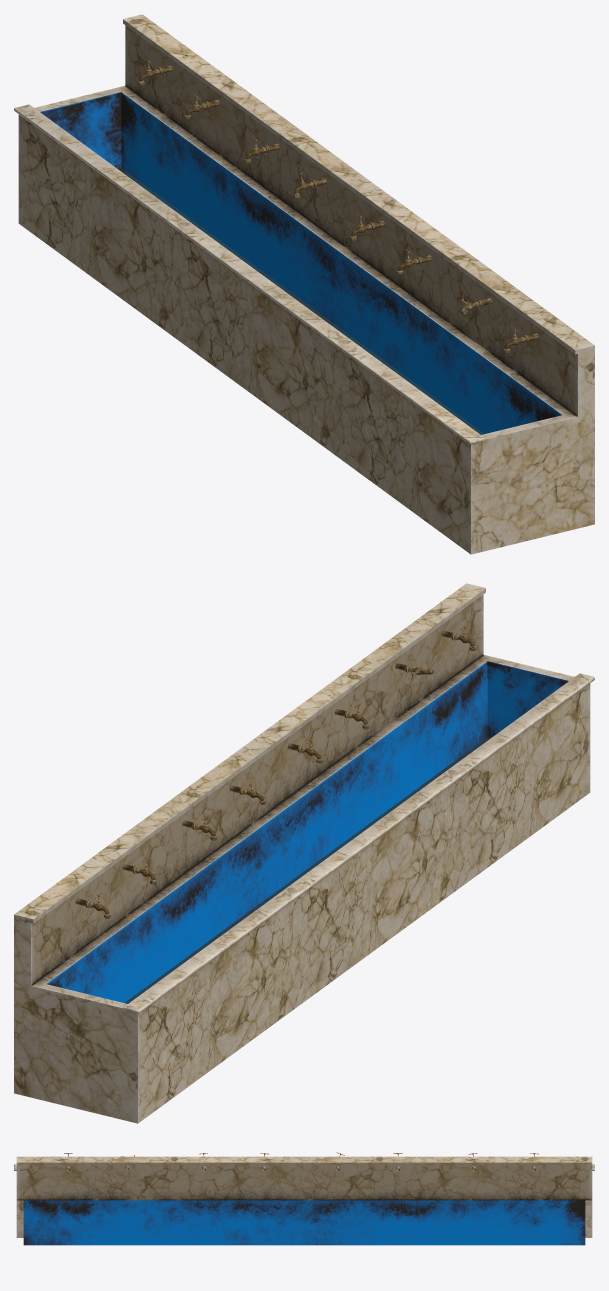
3 views of the same model, one above another, from view 1: azimuth 30°, elevation 25°; view 2: azimuth 150°, elevation 25°; view 3: azimuth 270°, elevation 25° (orthographic). The views are drawn at different scales.
Parts seen in each view (by area): view 1: 01_01_0, WaterPipe_4; view 2: 01_01_0, WaterPipe_4; view 3: 01_01_0, WaterPipe_4.
Part boxes in pixels (x1,y1,x2,y2): 01_01_0: (14,14,594,554); WaterPipe_4: (138,59,538,353); 01_01_0: (14,583,594,1123); WaterPipe_4: (75,624,476,918); 01_01_0: (14,1156,594,1245); WaterPipe_4: (64,1152,538,1171).
Size of the model in its own units: 1.19 by 1.6 by 7.4.
2 materials, 2 textured.
